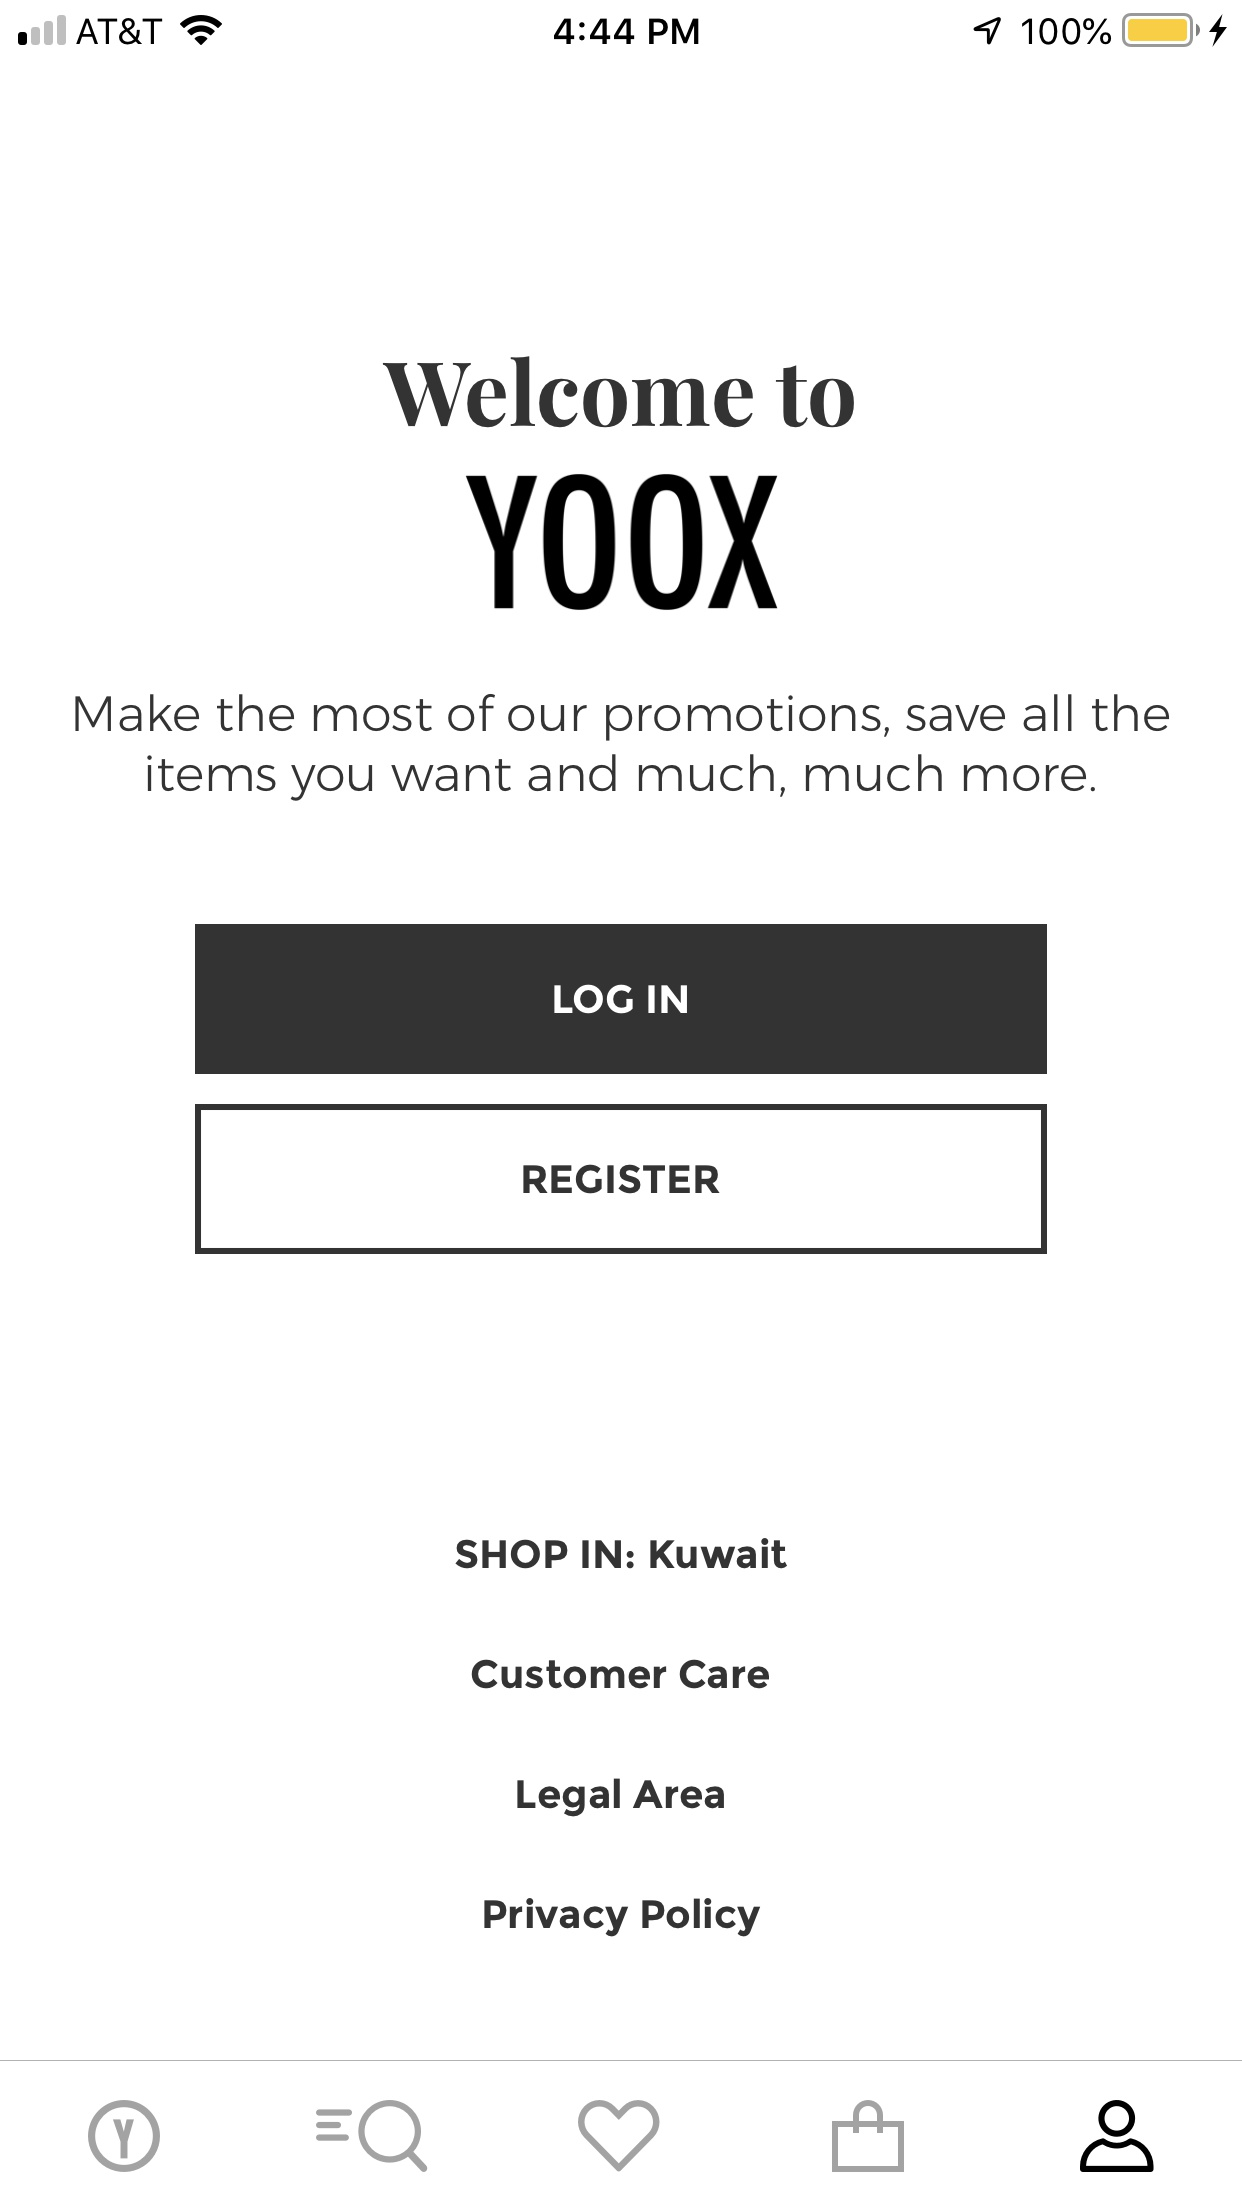Icon: (315, 2099, 428, 2173), (578, 2099, 661, 2172), (1080, 2099, 1156, 2173), (831, 2099, 905, 2173)
Image: (88, 2099, 162, 2173)
Text: (74, 695, 1171, 804), (466, 475, 779, 613), (384, 356, 855, 429), (484, 1897, 761, 1937), (455, 1538, 789, 1570), (472, 1659, 770, 1689), (516, 1777, 725, 1818)
TextButton: (196, 1102, 1048, 1256), (196, 924, 1048, 1075)
UpperTaskBar: (2, 2, 1242, 49)
